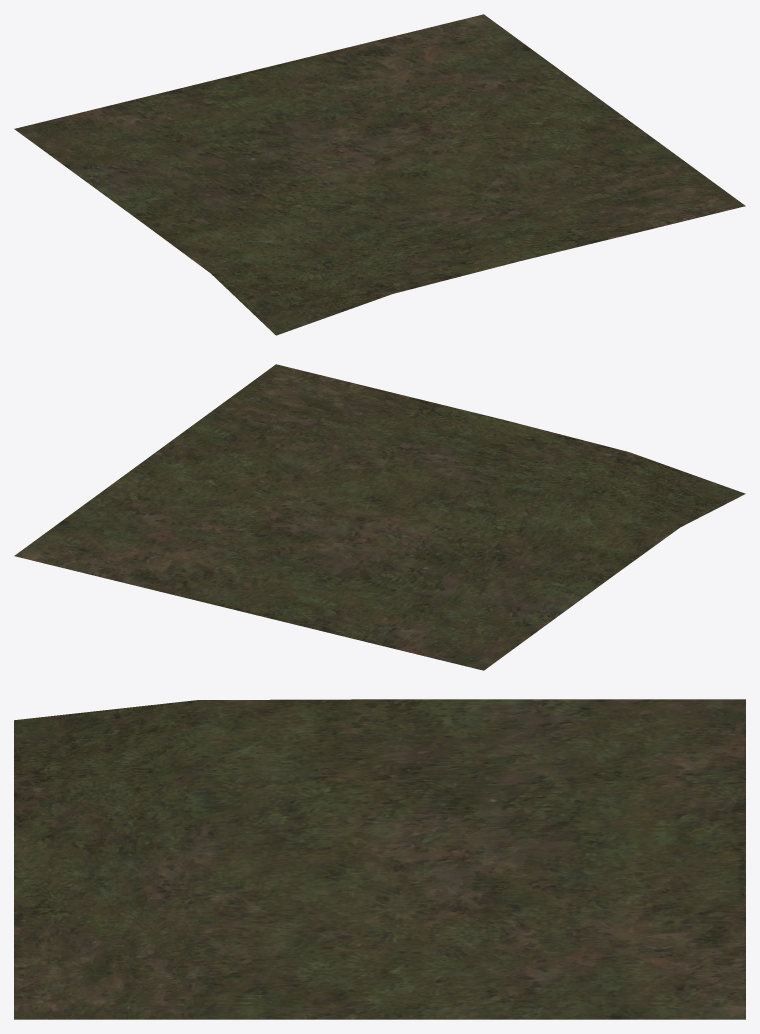
File: blend_weeds08.fbx
3 renders of one model, top to bottom at view 1: azimuth 30°, elevation 25°; view 2: azimuth 150°, elevation 25°; view 3: azimuth 270°, elevation 25°, orthographic. The views are drawn at different scales.
Parts seen in each view (by area): view 1: New_terrain/brushblend_shadow; view 2: New_terrain/brushblend_shadow; view 3: New_terrain/brushblend_shadow.
Boxes of the visible parts, bbox=[...] form: New_terrain/brushblend_shadow: bbox=[14, 14, 745, 335]; New_terrain/brushblend_shadow: bbox=[14, 364, 745, 670]; New_terrain/brushblend_shadow: bbox=[14, 699, 745, 1019].
Bounding box in the file's own units: 10.35 × 0.3418 × 10.
